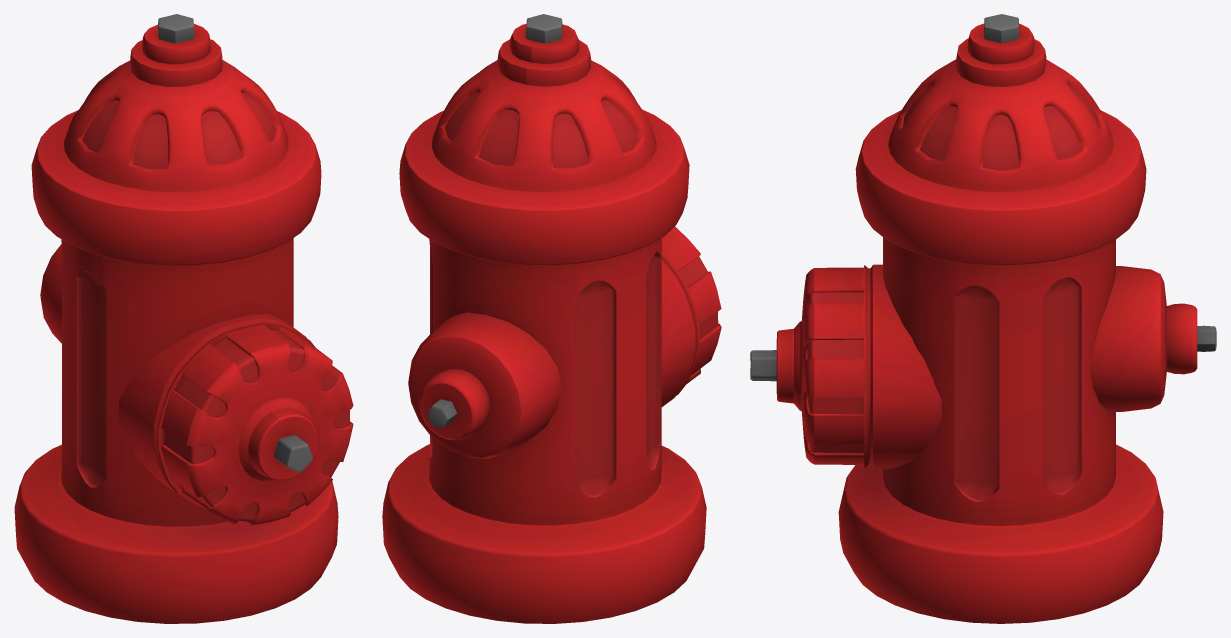
File: Hydrant.fbx
3 renders of one model, left to right at view 1: azimuth 30°, elevation 25°; view 2: azimuth 150°, elevation 25°; view 3: azimuth 270°, elevation 25°, orthographic.
Parts seen in each view (by area): view 1: node_id30; view 2: node_id30; view 3: node_id30.
Part boxes in pixels (x1,y1,x2,y2): node_id30: (14,14,353,623); node_id30: (382,14,721,623); node_id30: (750,14,1216,623).
Bounding box in the file's own units: 0.2792 × 0.512 × 0.4009.
Materials: 1 (1 with a texture image).
